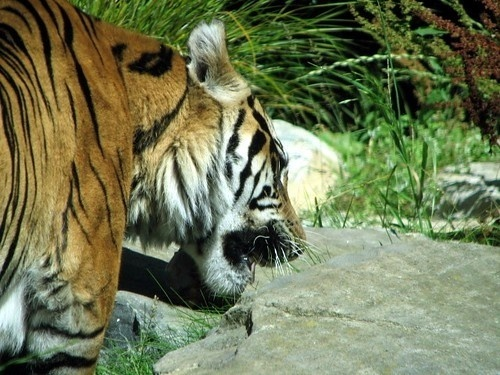tigre: (1, 1, 316, 364)
